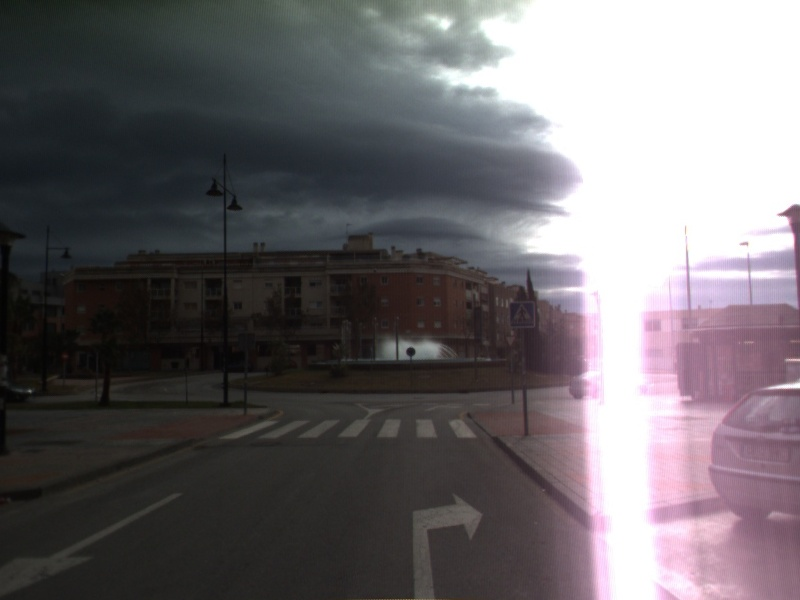RIGHT: (407, 489, 487, 600)
